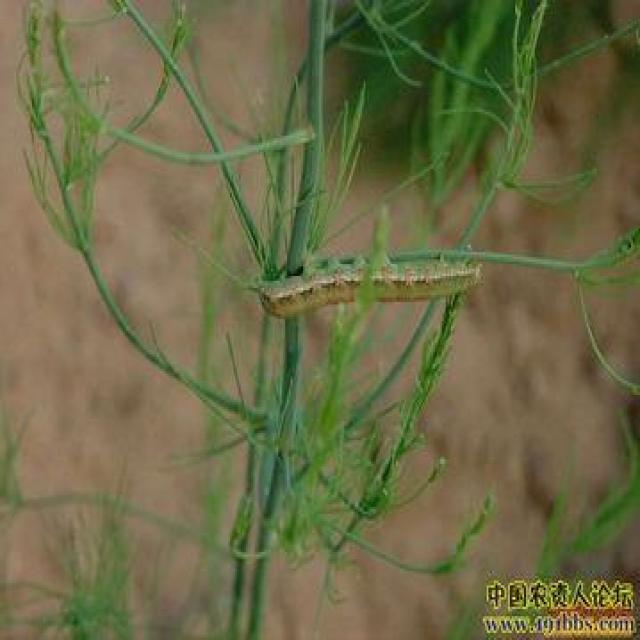BeetArmyWorm-Larva-: (234, 243, 496, 337)
